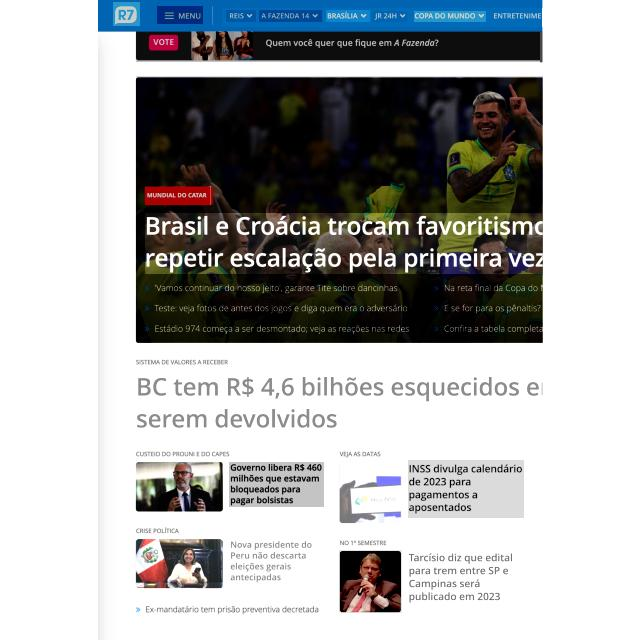ImageView: (137, 32, 540, 64)
Input field: (408, 460, 524, 518), (408, 548, 515, 607), (229, 537, 317, 586), (229, 462, 324, 507)
RadioButton: (146, 186, 212, 205)
alert: (414, 11, 486, 22), (259, 10, 322, 22), (326, 10, 370, 22), (372, 11, 408, 22), (226, 10, 256, 22)
bag: (98, 0, 542, 32)
card: (136, 76, 543, 343)
copy: (136, 538, 224, 589), (135, 462, 224, 512), (339, 550, 402, 613), (340, 462, 401, 524)
date picker: (113, 2, 140, 26)
decoration: (222, 8, 544, 27), (157, 6, 203, 24)
image: (145, 213, 542, 274), (132, 375, 545, 432)
